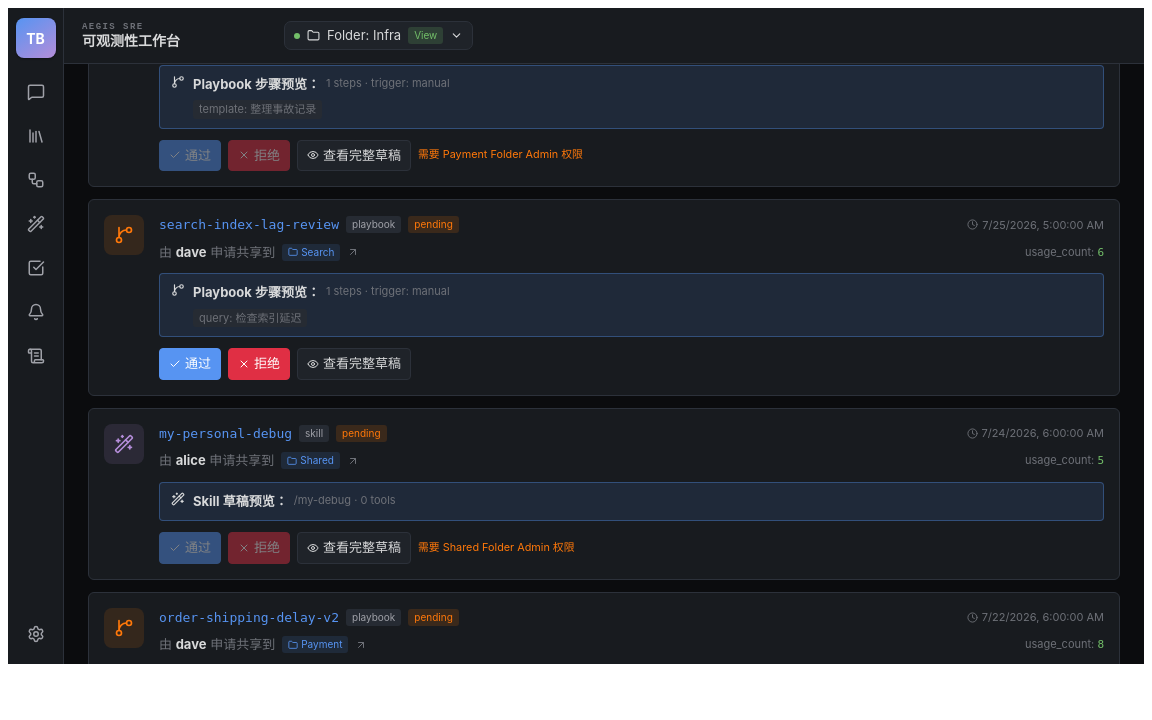
ApprovalsPage › approves after confirmation and removes the item from pending
This screenshot has width=1152, height=720.
(page scrolled)
Click the button "通过" below "query" at (190, 364), box [159,348,221,380]
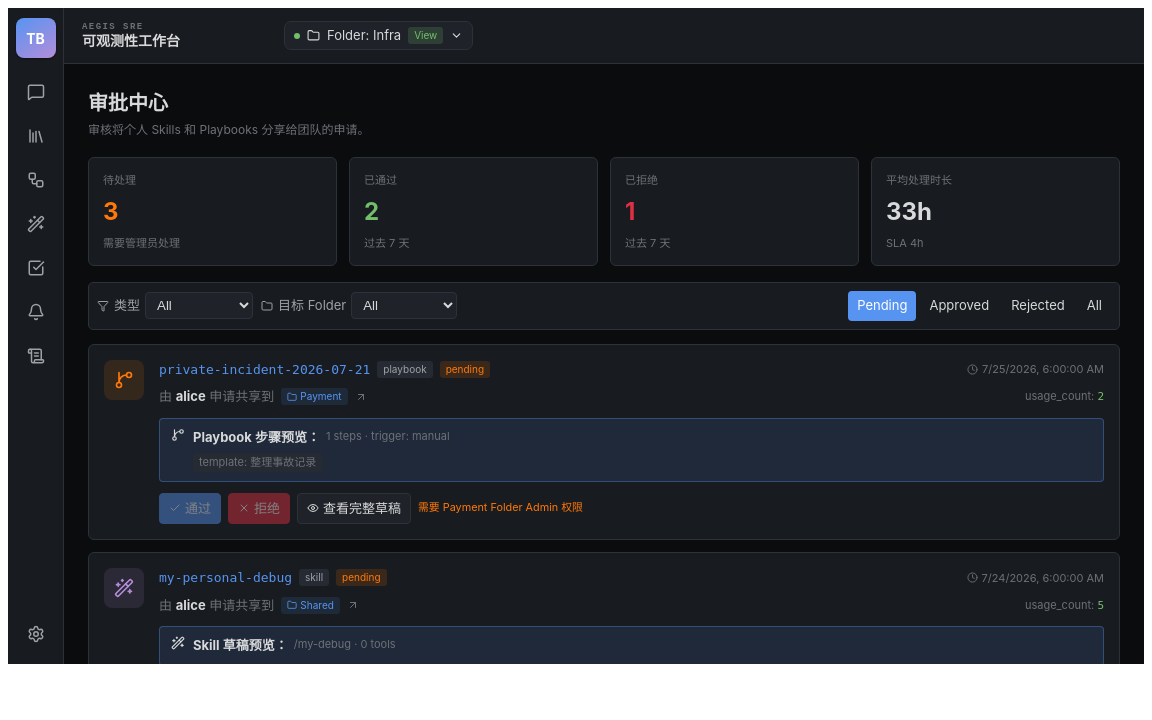
Expected: the text "search-index-lag-review" is gone
